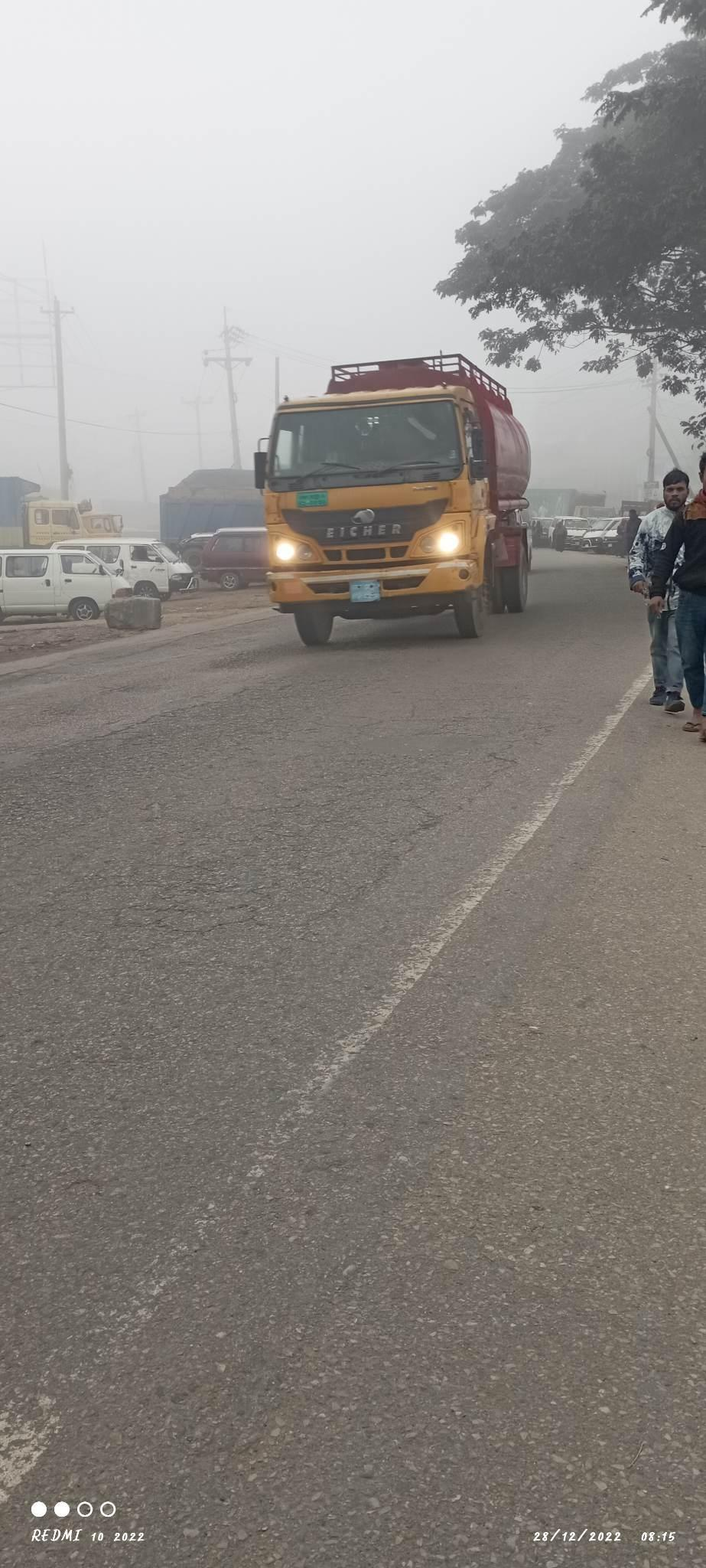Car: (5, 531, 142, 634), (65, 515, 201, 609)
Truck: (236, 336, 558, 668)
